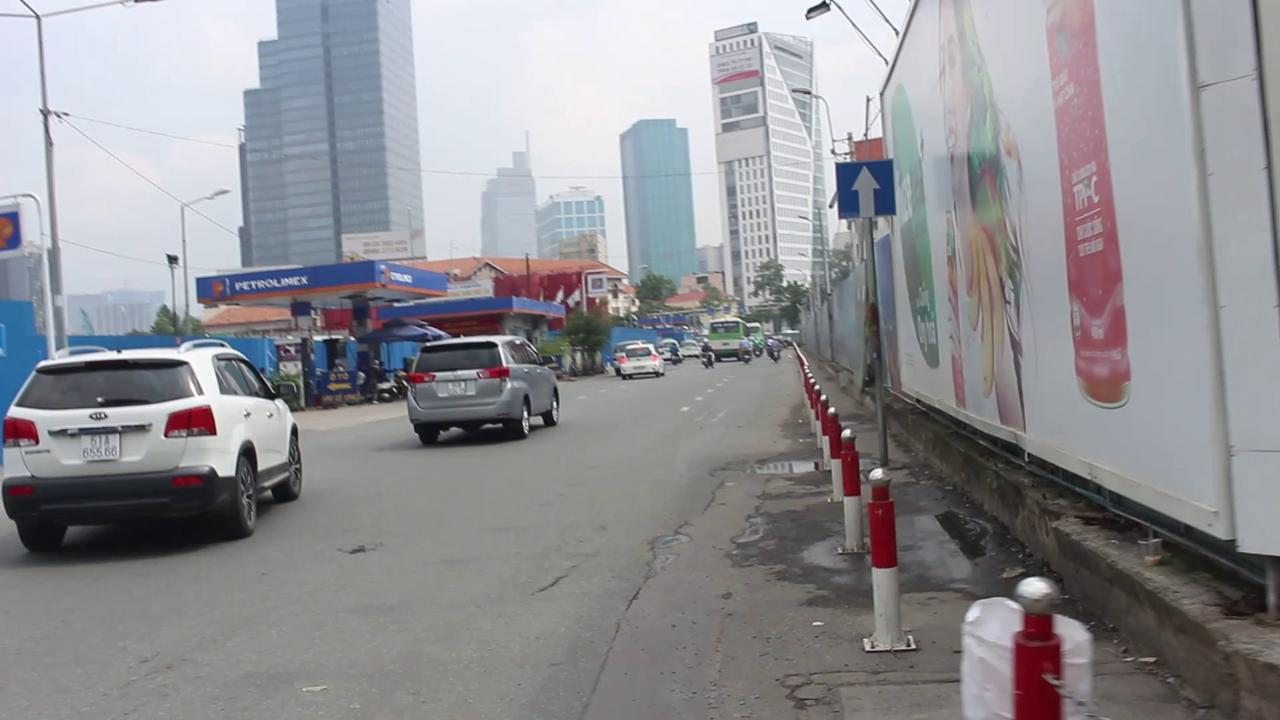P.124c: (829, 156, 901, 226)
